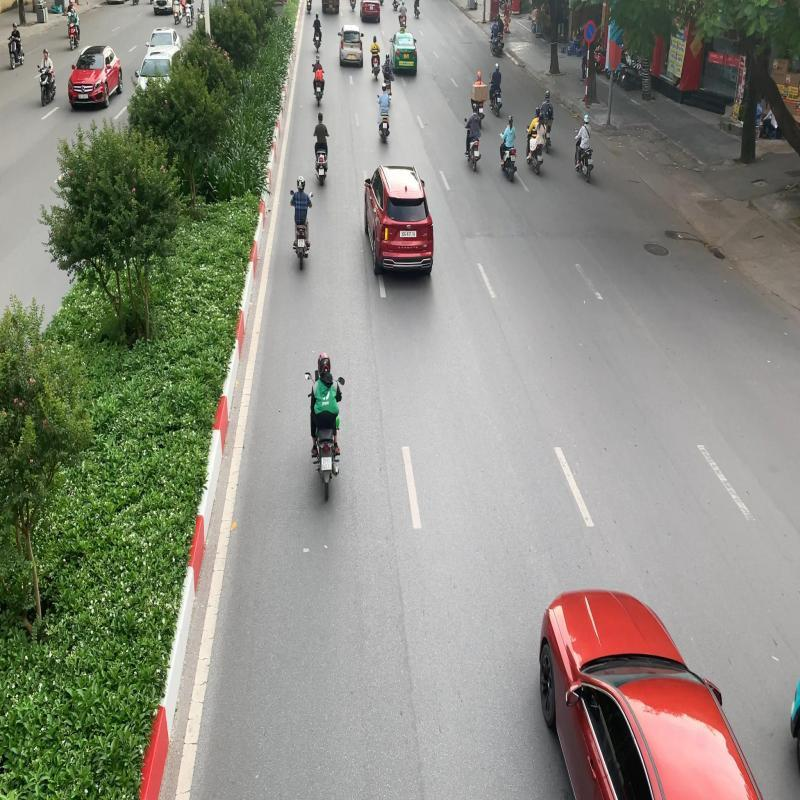helmet: (316, 353, 332, 376)
licenseplate: (319, 456, 334, 472)
motorcyclist: (301, 352, 347, 504)
